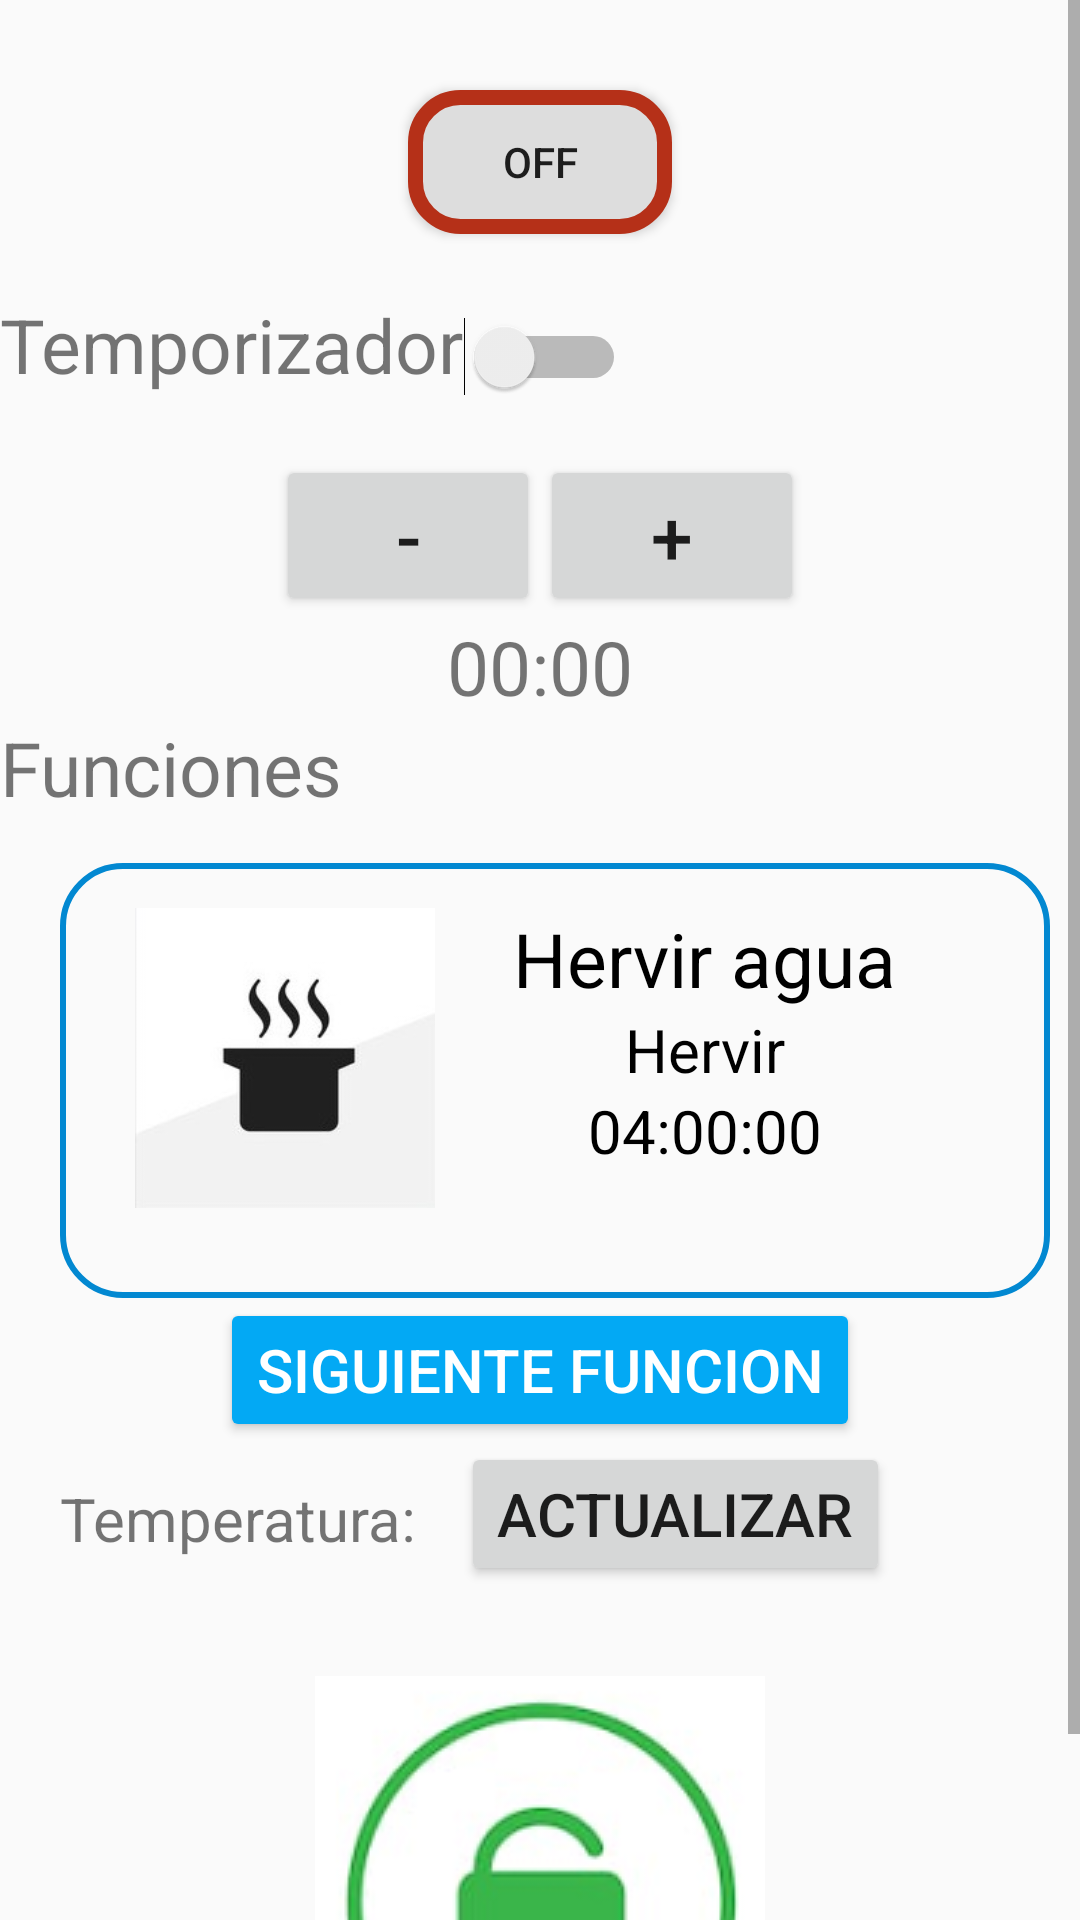

Icons on this 1080px×1920px Android screen, each with its box as [x1=x1, y1=y1, x2=x2, y2=y2]:
boil: [x1=222, y1=978, x2=356, y2=1132]
